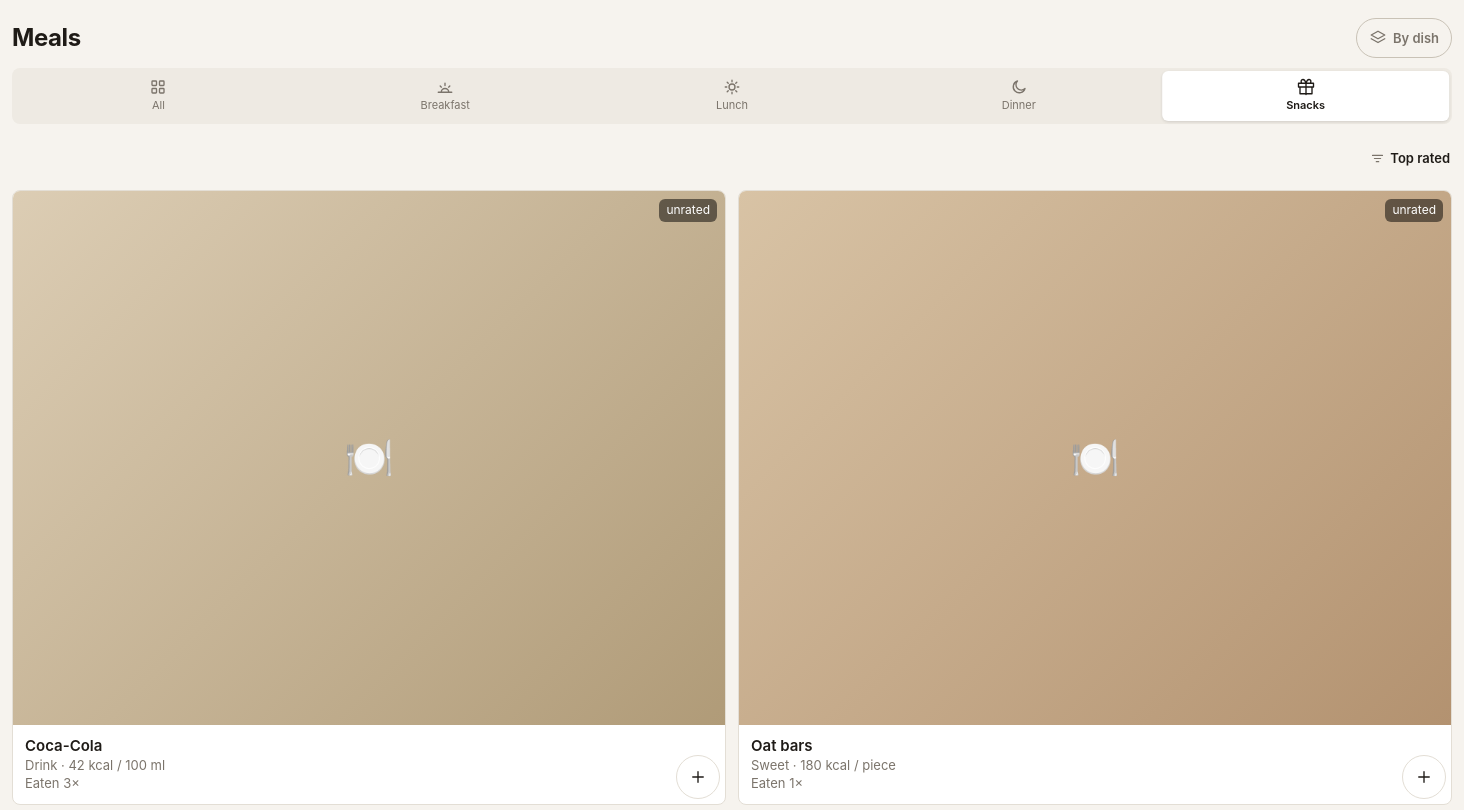
Test: Meals → Snacks › lists snack meals with their unit and how often we had them; All keeps the meals
Expected: the text "Drink · 42 kcal / 100 ml" is shown, x1=25 y1=757 x2=165 y2=773
Expected: the text "Eaten 3×" is shown, x1=25 y1=775 x2=80 y2=791
Click the button "All": {"x": 158, "y": 96} x1=15 y1=71 x2=302 y2=121
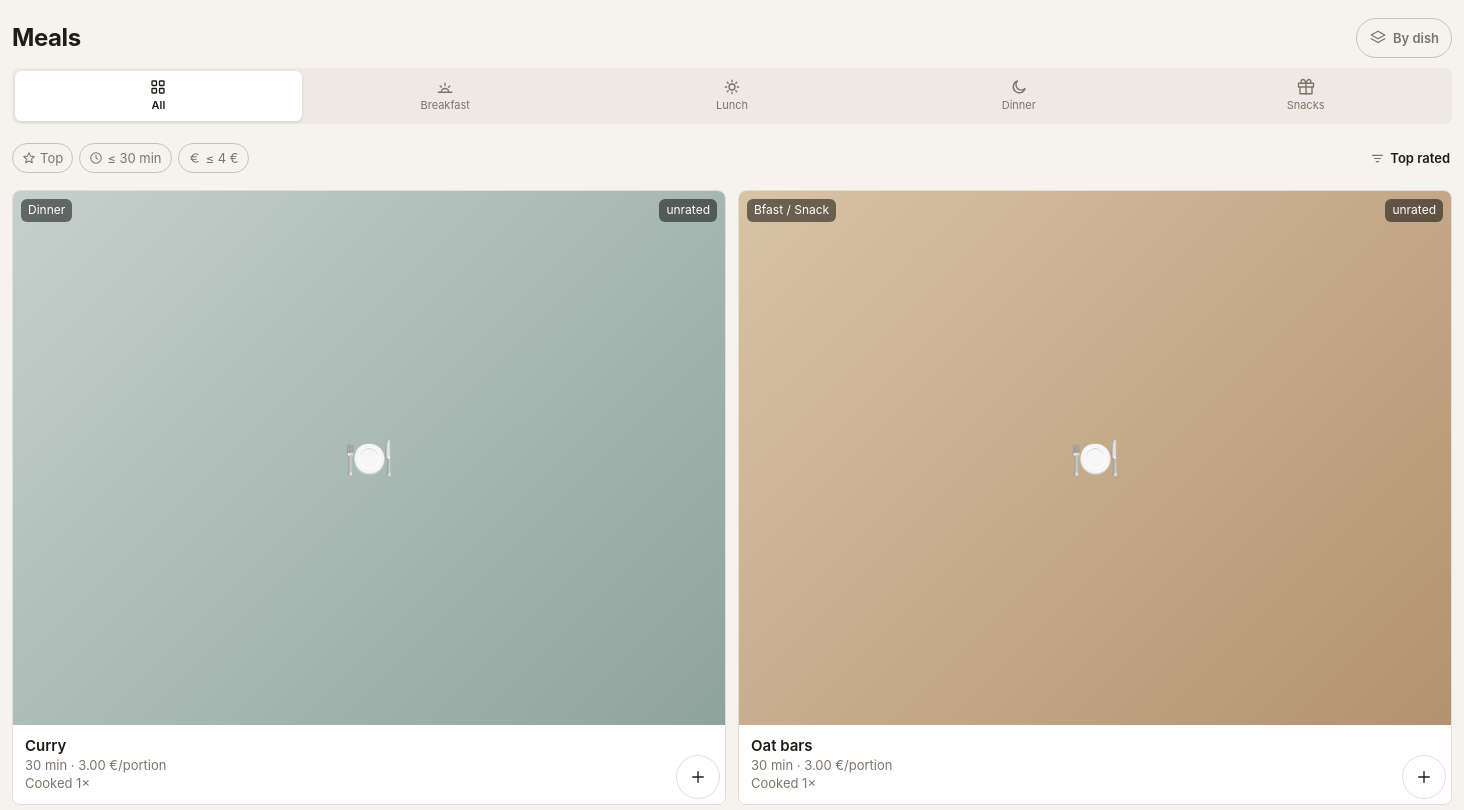
Expected: the link "Oat bars" is shown, x1=738 y1=190 x2=1452 y2=805
Expected: the link "🍽️ unrated Dinner Curry 30 min · 3.00 €/portion Cooked 1×" is shown, x1=12 y1=190 x2=726 y2=805
Expected: the link "Coca-Cola" is gone
